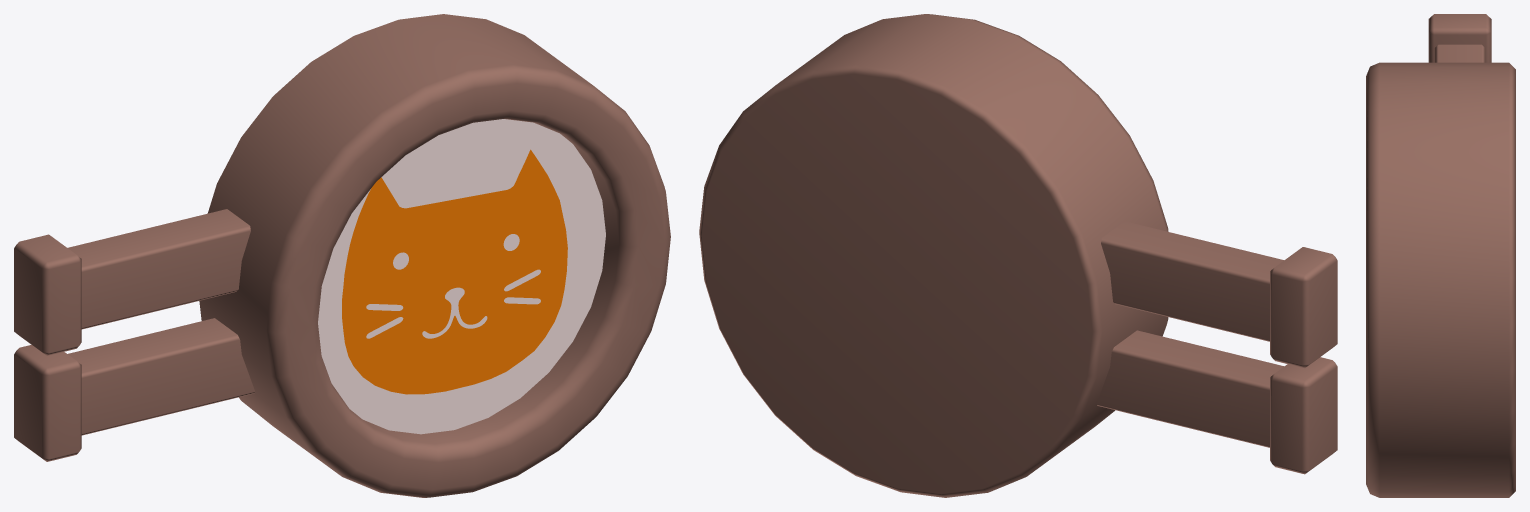
Rendered from Store_11_Animal_Sign_2.glb.
3 renders of one model, left to right at view 1: azimuth 30°, elevation 25°; view 2: azimuth 150°, elevation 25°; view 3: azimuth 270°, elevation 25°, orthographic. The views are drawn at different scales.
Visible parts, largest first — view 1: Store_11_Animal_Sign_2; view 2: Store_11_Animal_Sign_2; view 3: Store_11_Animal_Sign_2.
Boxes of the visible parts, x1,y1,x2,y2 form: Store_11_Animal_Sign_2: [14, 14, 670, 497]; Store_11_Animal_Sign_2: [699, 14, 1337, 497]; Store_11_Animal_Sign_2: [1366, 14, 1515, 497].
Size of the model in its own units: 2.25 by 1.52 by 0.5221.
1 material, 1 textured.
